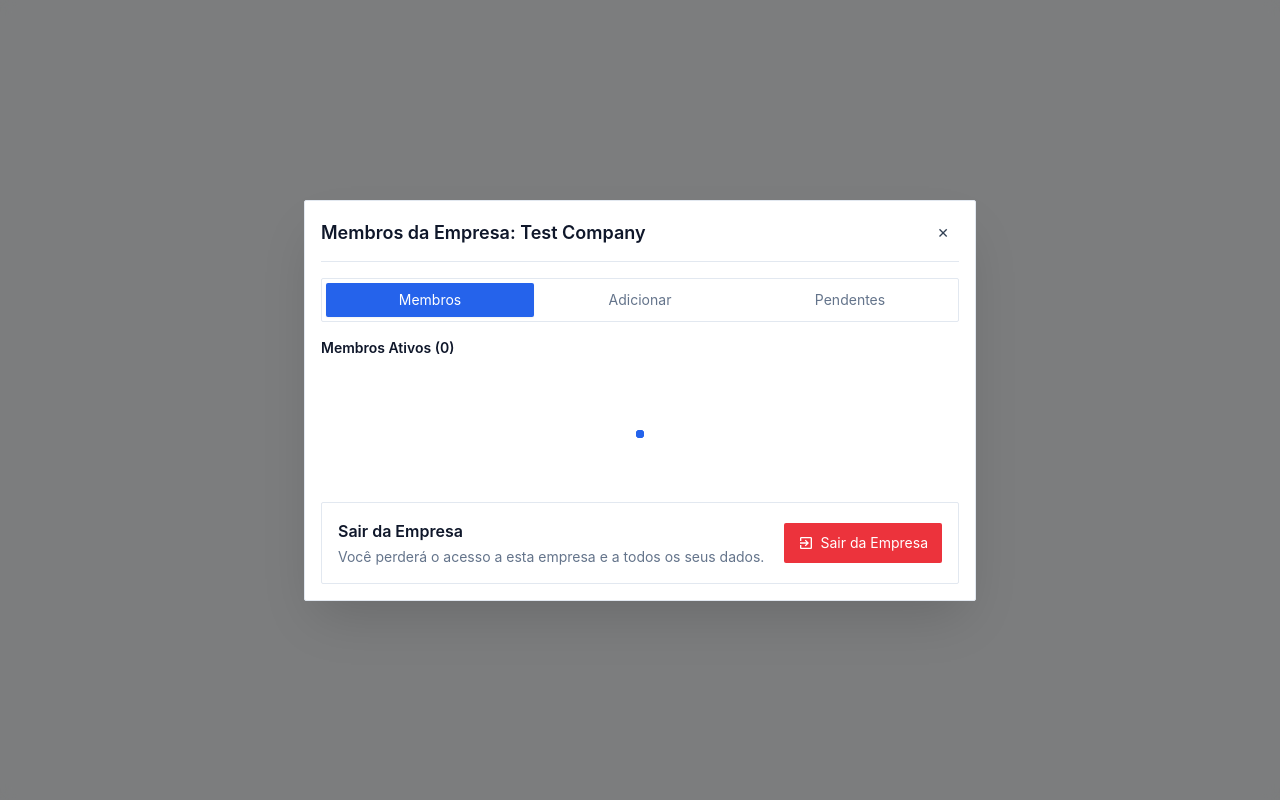
Test: ManageMembersModal › allows switching between Membros, Adicionar, and Pendentes tabs
This screenshot has width=1280, height=800.
Switch to Adicionar tab
Click the button "Adicionar": (640,300) [536,282,744,316]
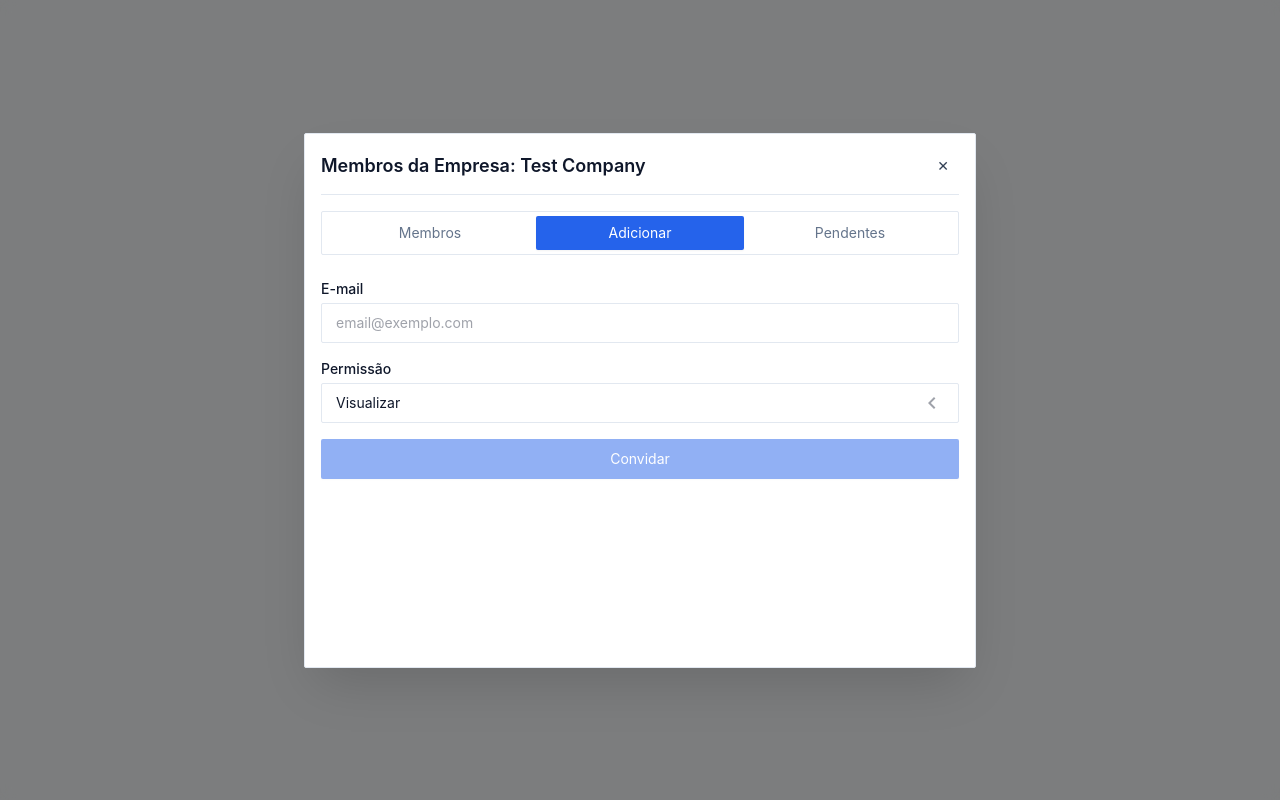
Now the field labelled "E-mail" is shown, box [321,302,959,342]
Now the text "Permissão" is shown, box [321,360,391,376]
Switch to Pendentes tab
Click the button "Pendentes": (850,232) [746,216,954,250]
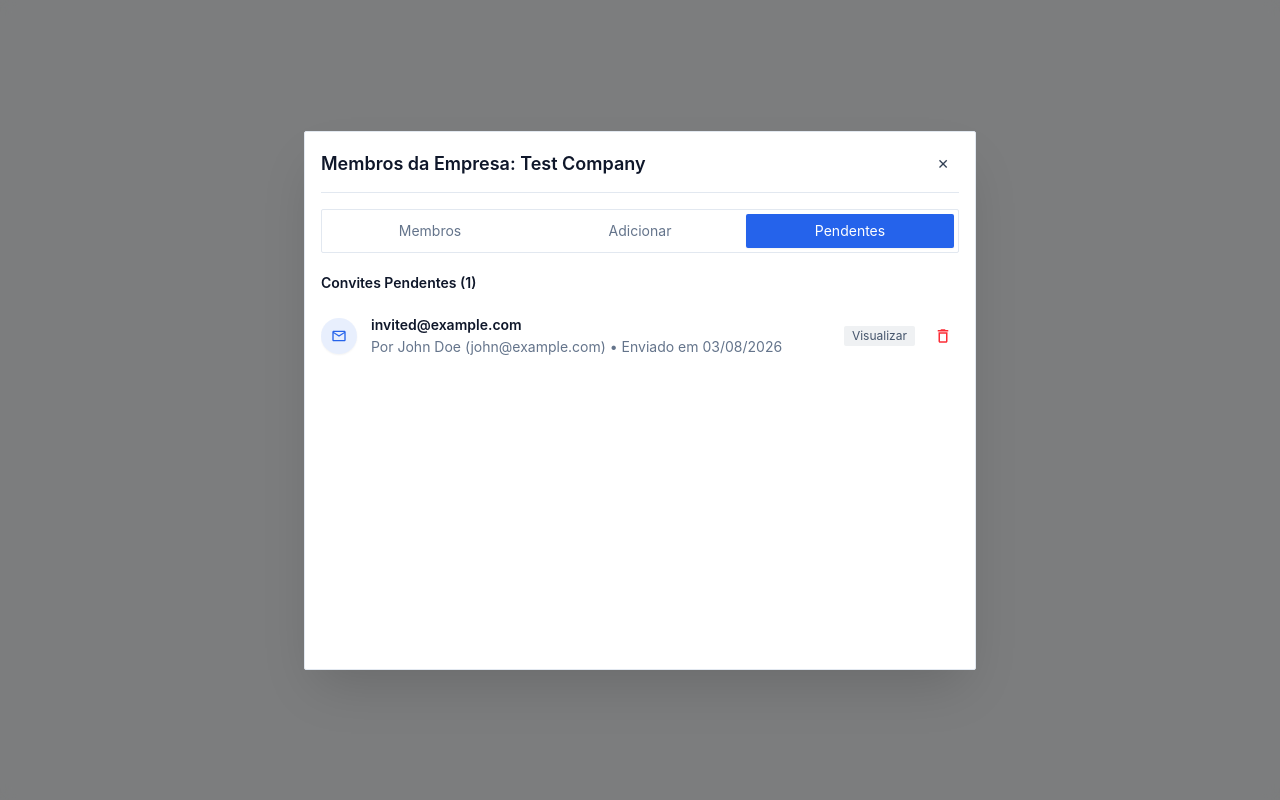
Now the text "invited@example.com" is shown, box [371,316,522,332]
Now the text "Por John Doe (john@example.com) • Enviado em 03/08/2026" is shown, box [371,336,782,356]
